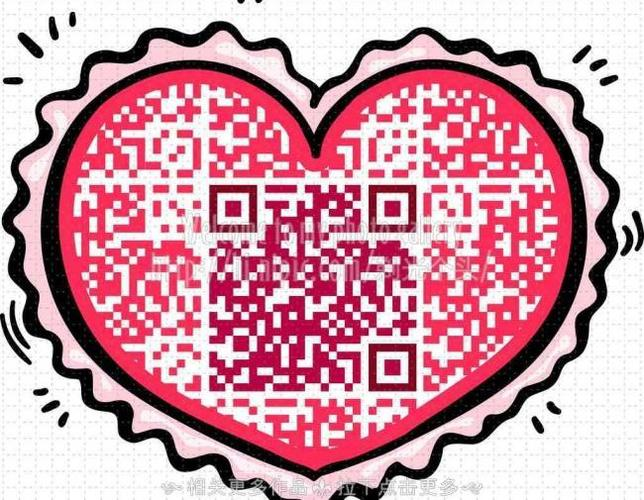QRCode: (203, 179, 418, 394)
